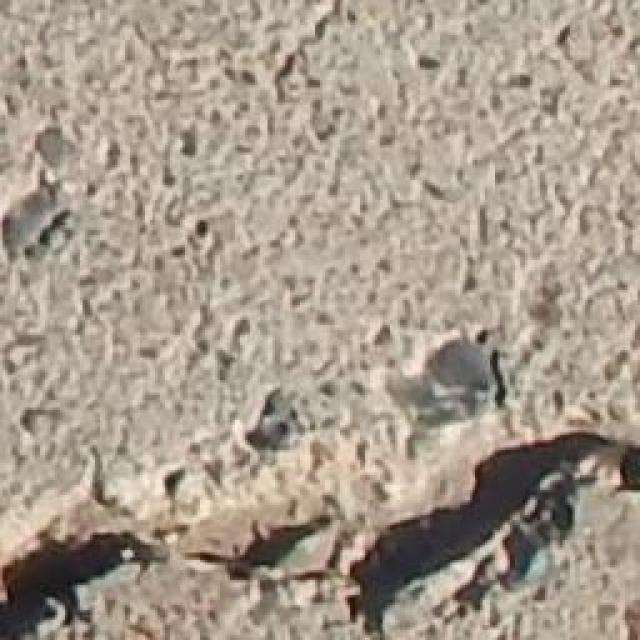concrete-crack: (350, 425, 640, 640), (0, 522, 179, 640), (193, 497, 341, 586)
